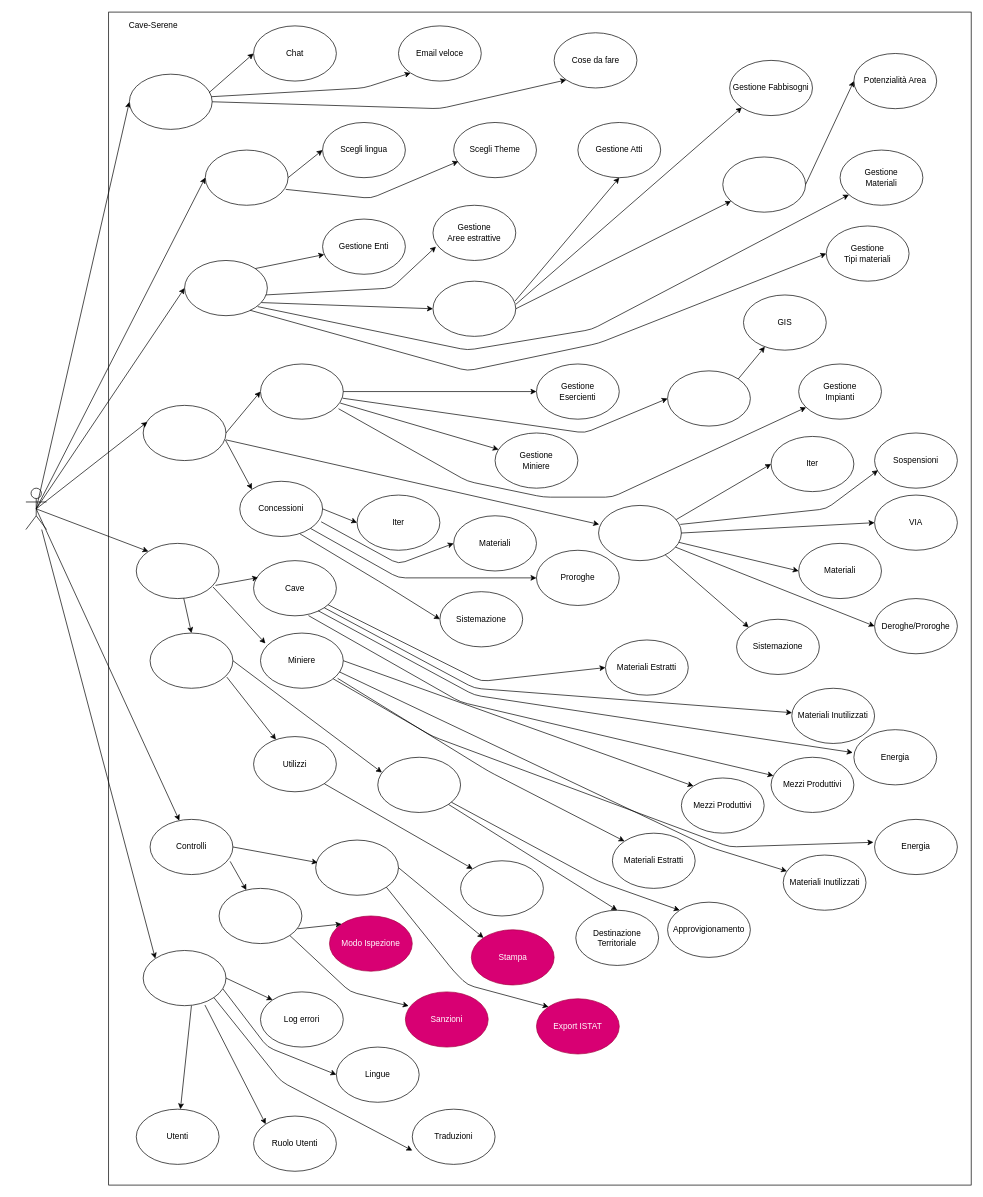
This 983x1197 diagram has some shape labels left out. Each missing label, with the box of its shape:
Amministrazione: (142, 950, 226, 1006)
Autorizzazione: (142, 405, 226, 461)
Autorizzazioni: (598, 505, 681, 561)
Dashboard: (129, 73, 212, 129)
Dati Impianti: (149, 632, 233, 688)
Destinazione Uso: (460, 860, 543, 916)
Flussi: (377, 757, 461, 812)
Gestione Area: (722, 156, 806, 212)
Gestione Cave: (667, 370, 750, 426)
Gestione PIAE: (432, 280, 516, 336)
Gestione Soggetti: (260, 363, 343, 419)
Logged Administrator: (25, 487, 47, 530)
Pianificazione: (184, 260, 267, 316)
Polizia Mineraria: (218, 888, 302, 944)
Rendicontazione: (136, 543, 219, 599)
Report: (315, 839, 398, 895)
Settings: (205, 149, 288, 205)
